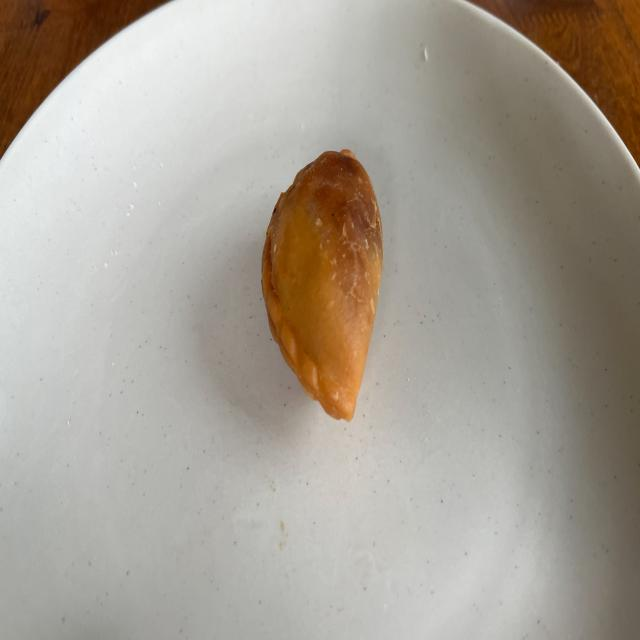karipap: (261, 149, 382, 420)
